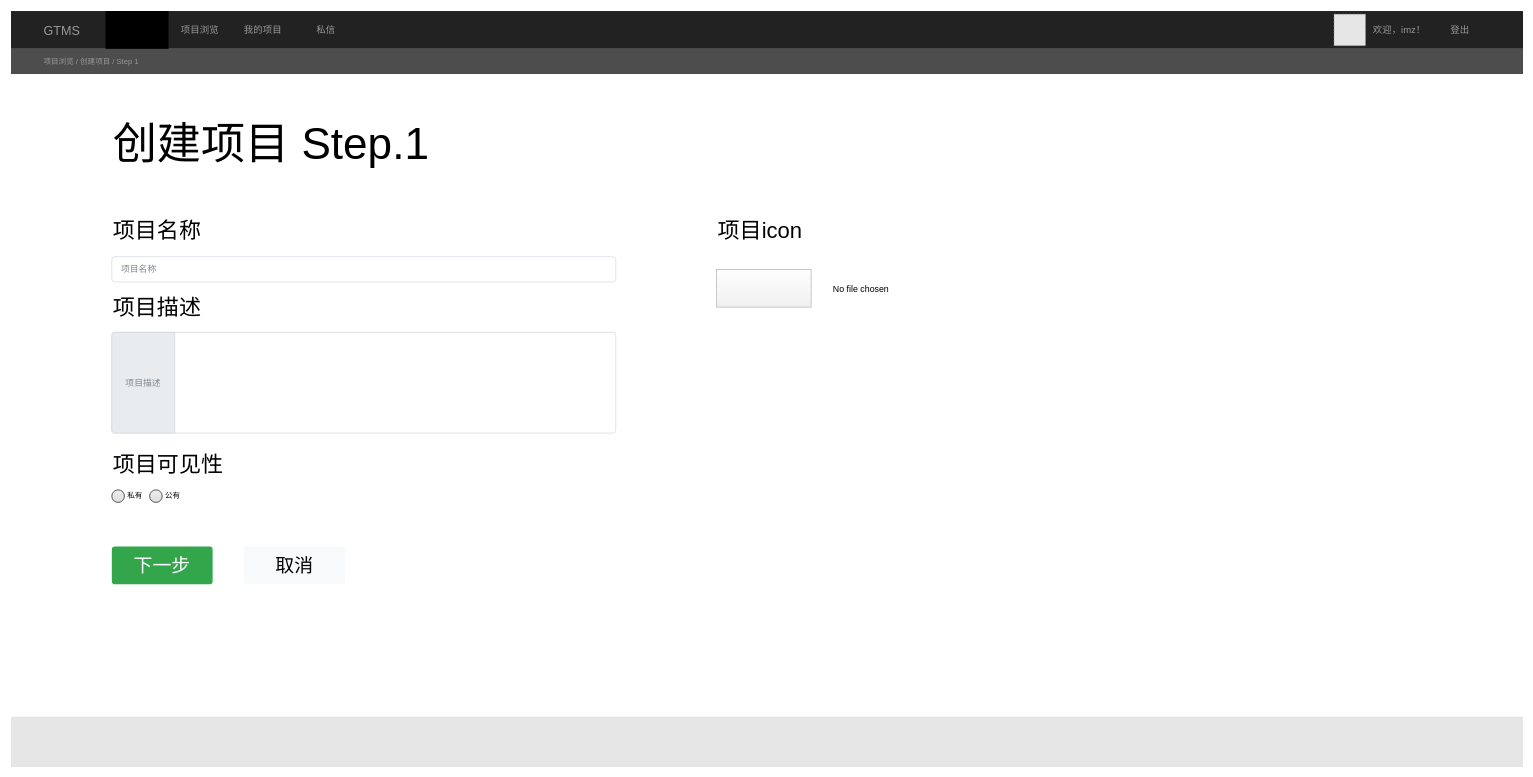
This 1533x777 diagram has some shape labels left out. Grey dashed boxes stand in for pictures. Here are the shapes that lost their labels. From the top down, the centre of each, then its label:
At (x=136, y=30): "仪表板".
At (x=763, y=288): "选择文件".
At (x=767, y=741): "Yifan Xu 毕业设计 @天津工业大学".
